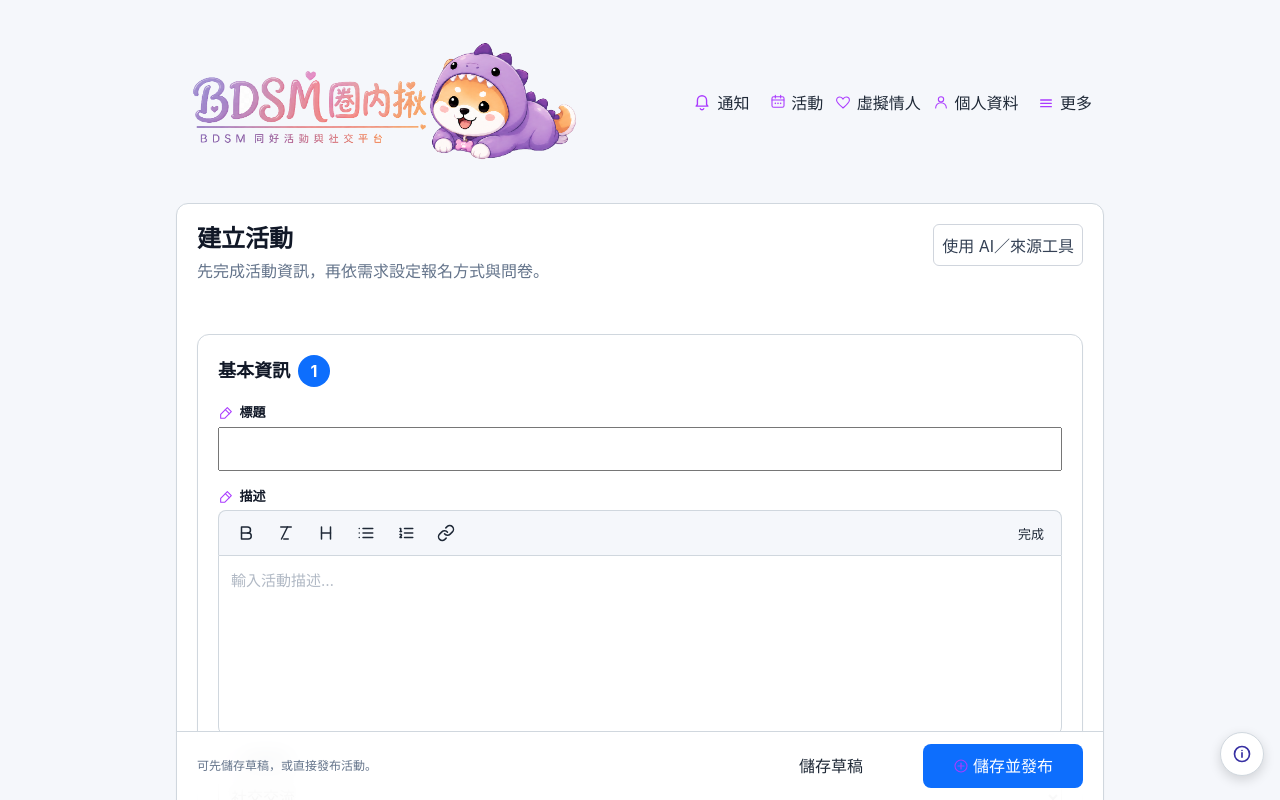
Test case: CreateEventPage › shows validation feedback in the action bar and focuses the first missing field
Type "Incomplete event" into the field labelled "標題". click: (640, 449)
box: [218,427,1062,471]
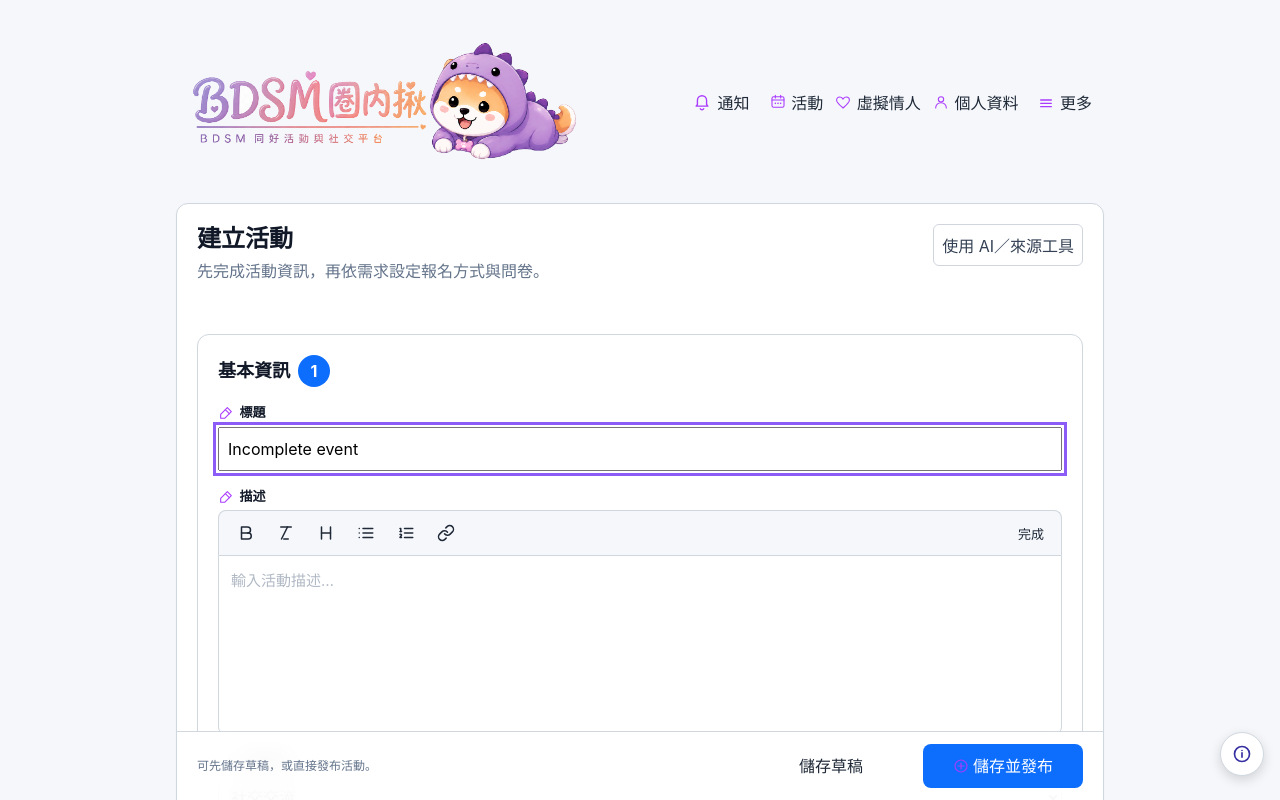
Click the button "儲存草稿". click: click(831, 766)
box: [751,744,911,788]
(page scrolled)
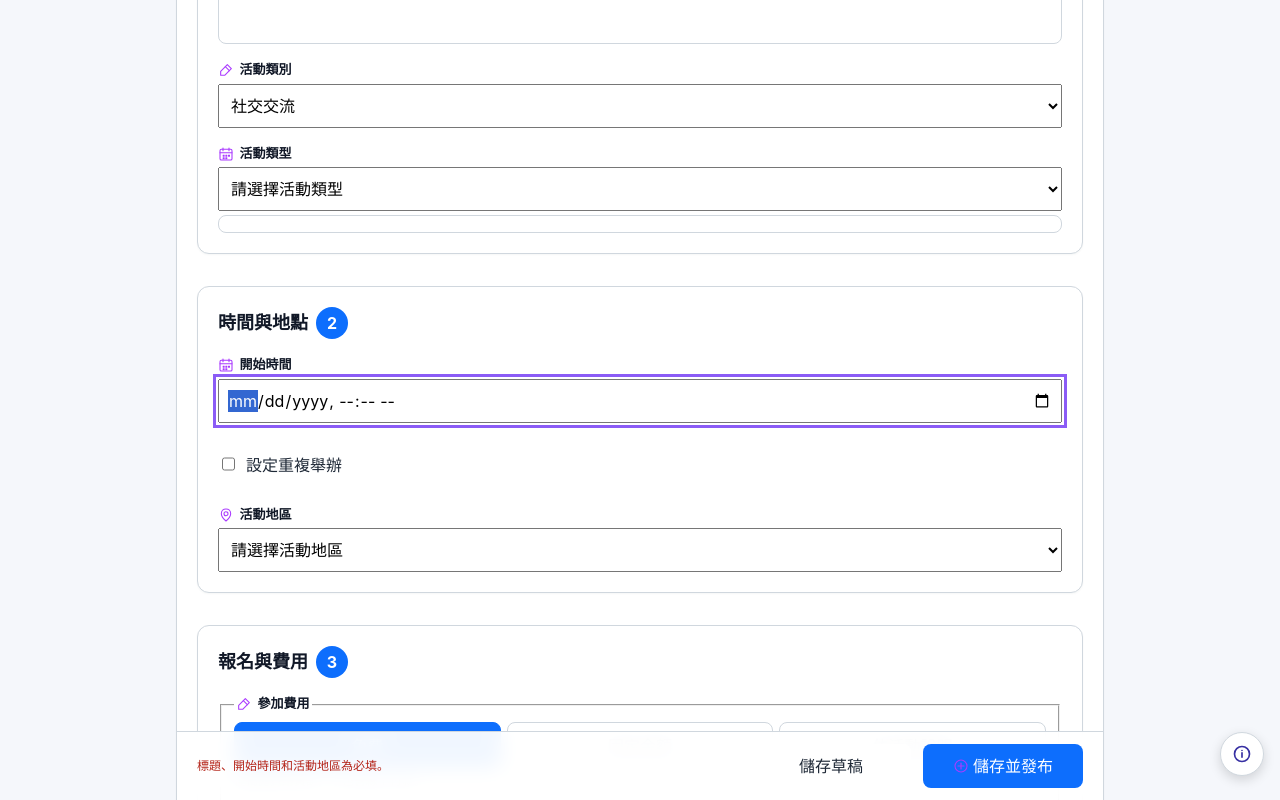
Check: the message reads "標題、開始時間和活動地區為必填。", box [197,758,389,773]
